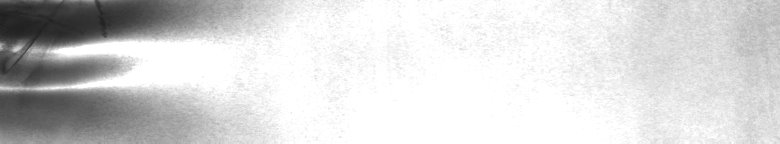ke: (4, 4, 200, 136)
